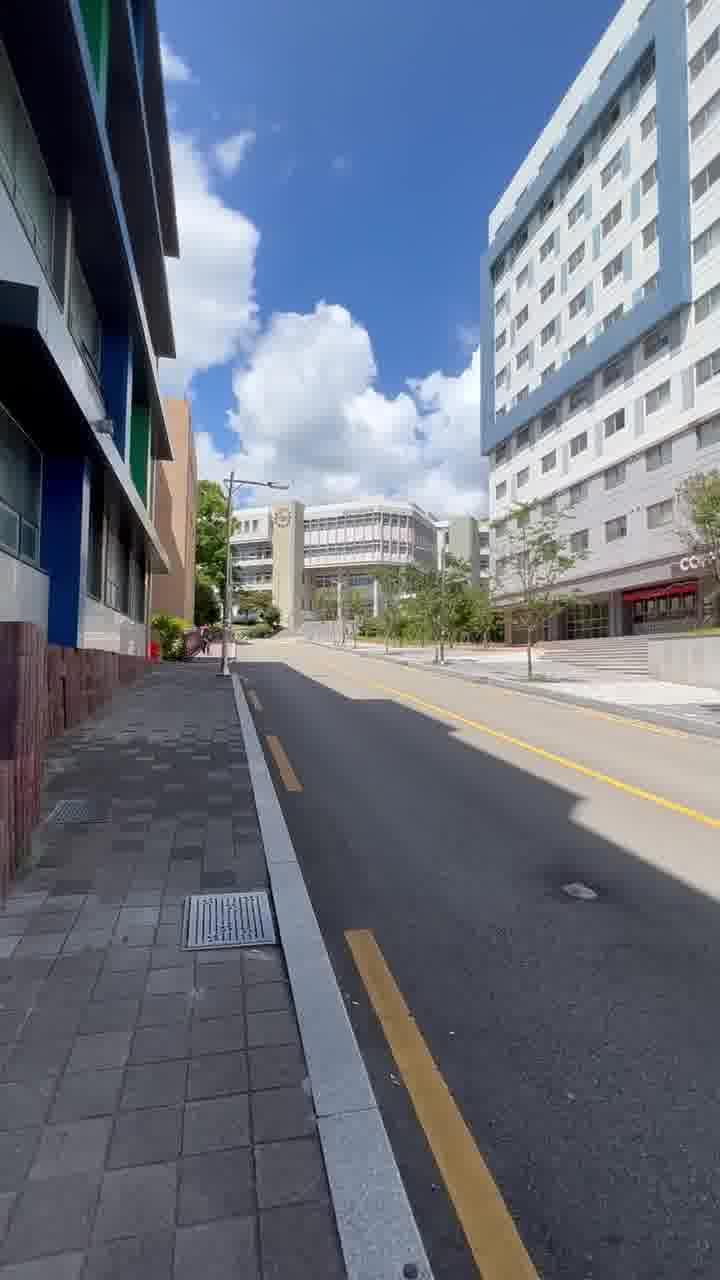building: (242, 480, 476, 584)
